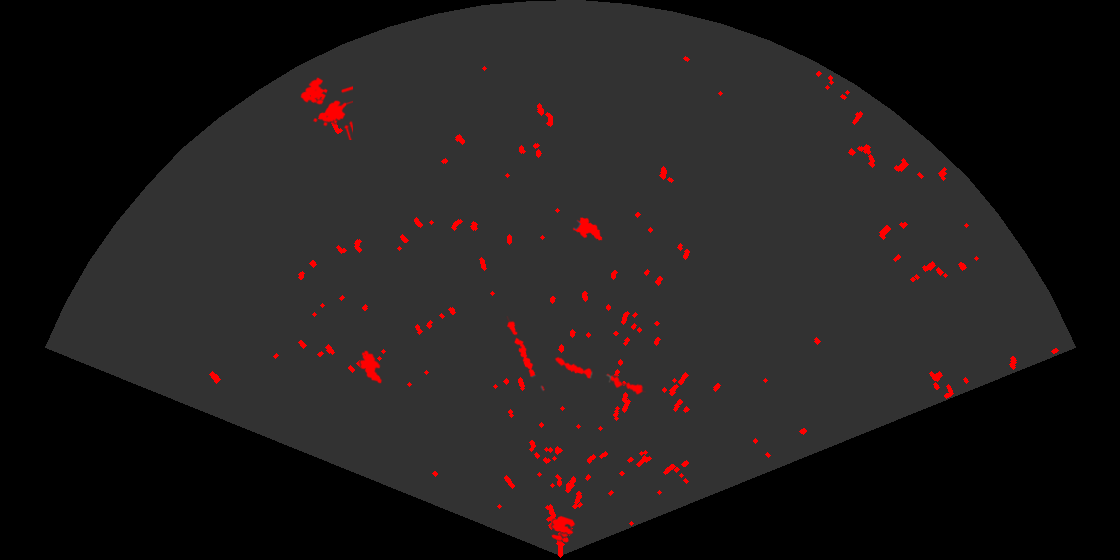AUV: (358, 349, 384, 385), (571, 216, 604, 242)
ball: (550, 514, 577, 544)
cage: (299, 76, 353, 140)
chain: (553, 355, 646, 396), (505, 316, 546, 392)
